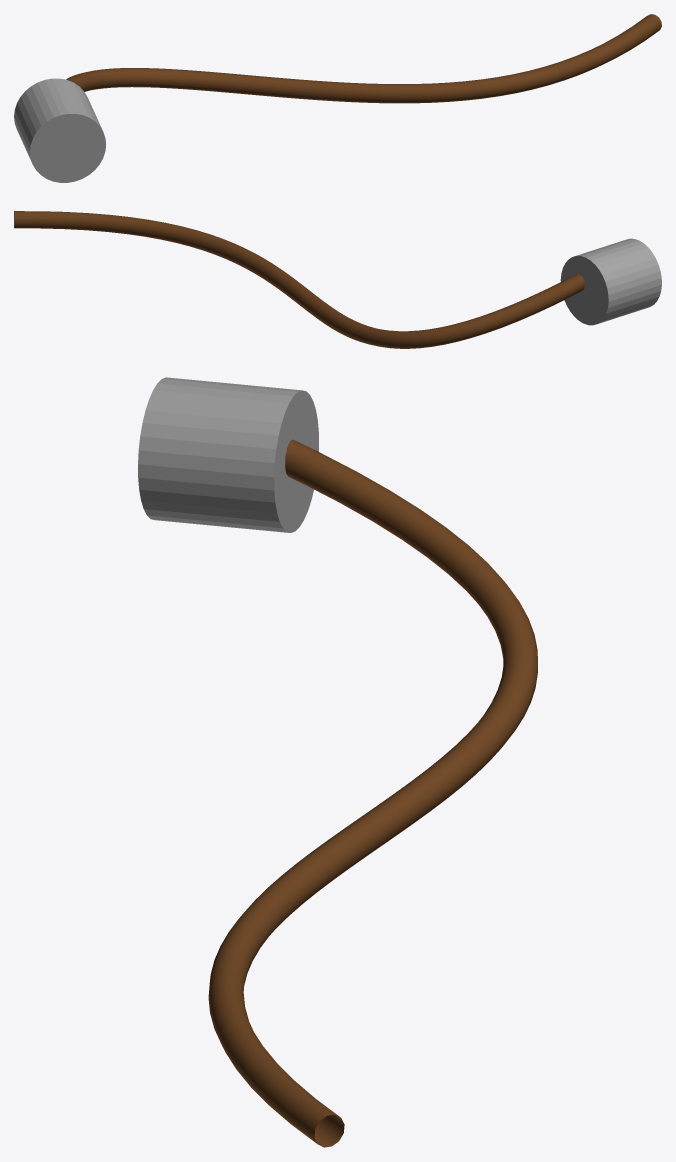
The picture shows the model from 3 angles, top to bottom: view 1: azimuth 30°, elevation 25°; view 2: azimuth 150°, elevation 25°; view 3: azimuth 270°, elevation 25°; orthographic projection. The views are drawn at different scales.
Visible parts, largest first — view 1: tube, piston; view 2: tube, piston; view 3: tube, piston.
Boxes of the visible parts, box(x1,y1,x2,y2) form: tube: box(66, 14, 661, 103); piston: box(14, 78, 105, 182); tube: box(14, 211, 584, 348); piston: box(560, 238, 661, 325); tube: box(208, 439, 537, 1147); piston: box(138, 377, 318, 532).
Size of the model in its own units: 69.48 by 10.87 by 19.57.
